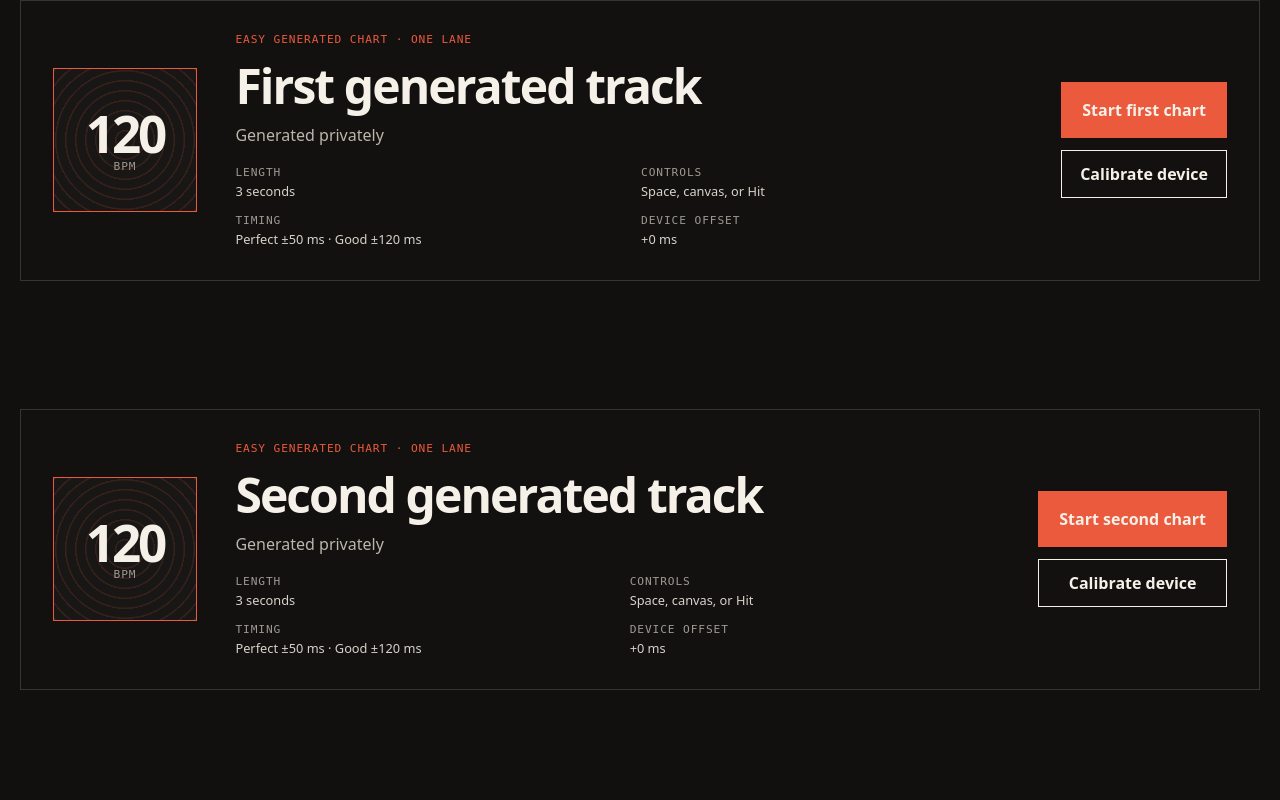
Test: generated rhythm-game experience › stops the previous game so only the active owner consumes Space
Click the button "Start first chart" at (1144, 110), box [1061,82,1227,138]
(page scrolled)
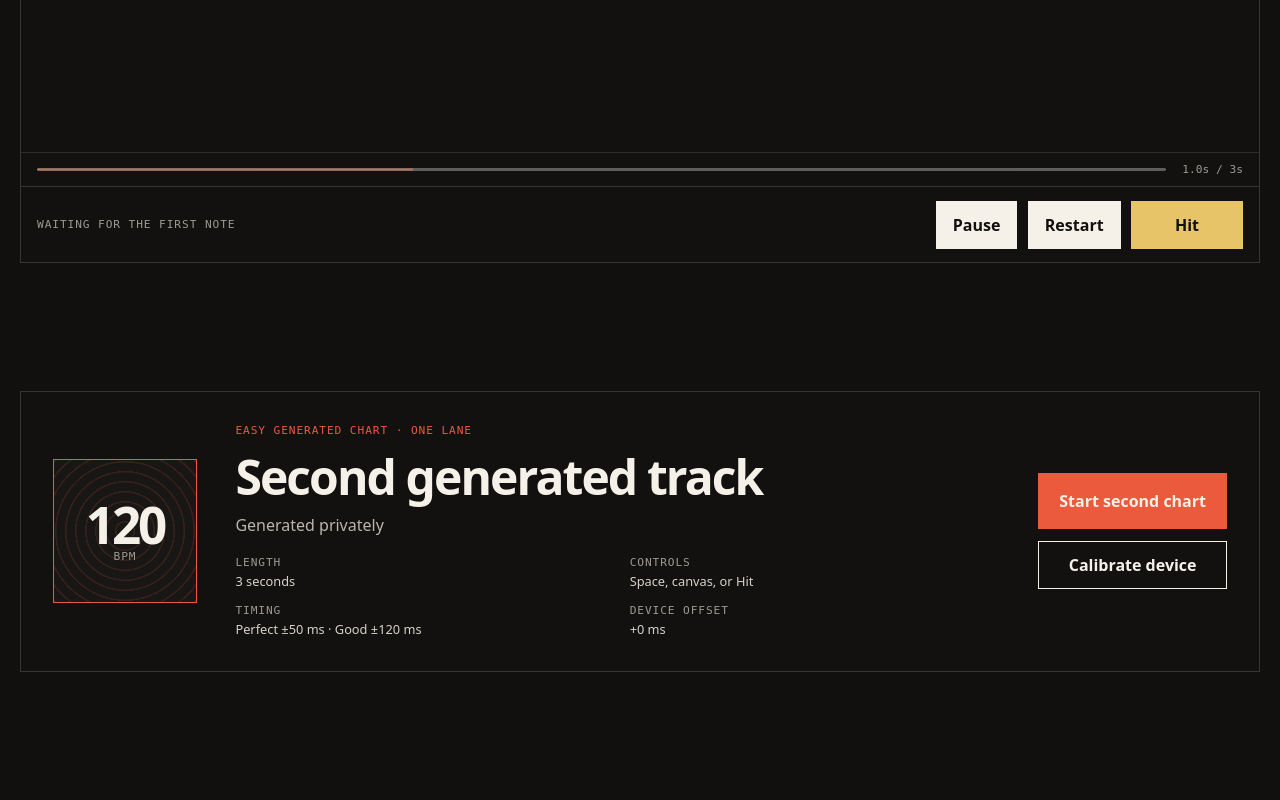
Expected: the button "Pause" is enabled, [936,200,1017,248]
Click the button "Start second chart" at (1133, 501), box [1038,473,1227,529]
(page scrolled)
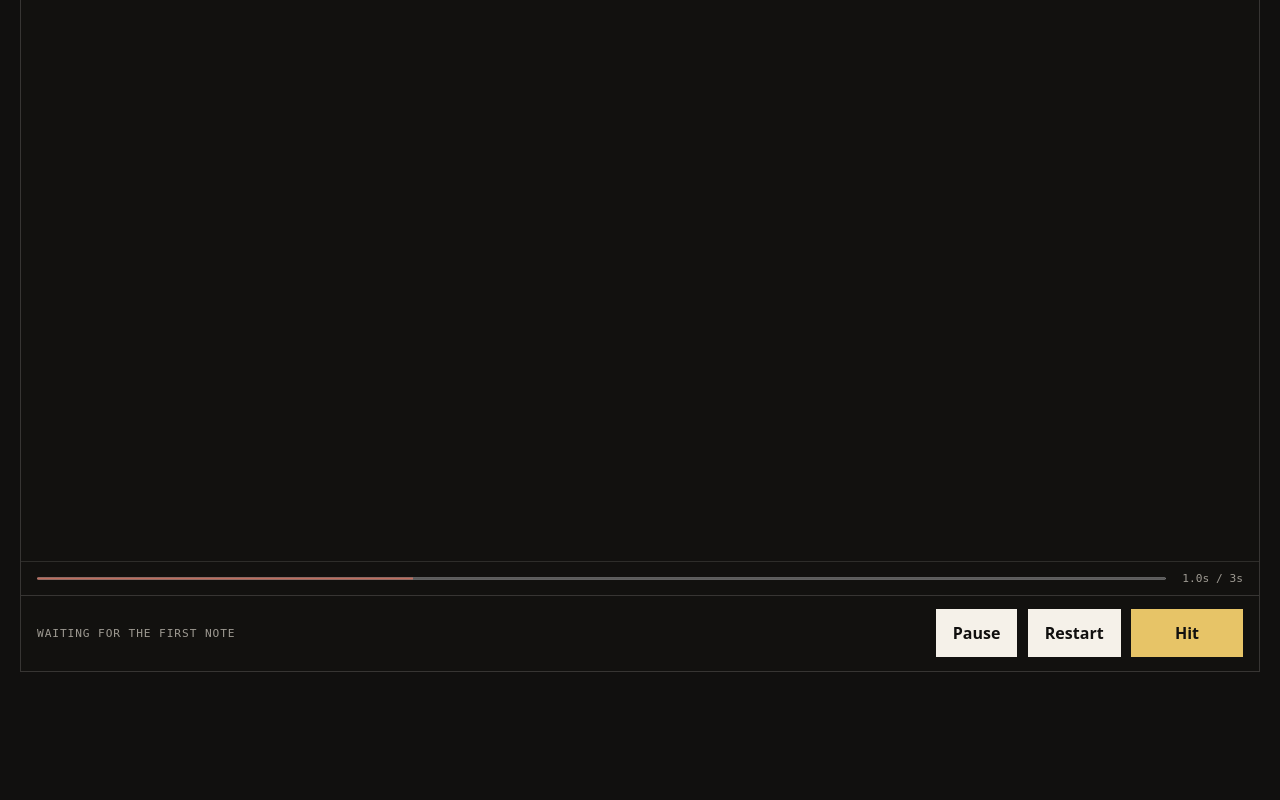
Expected: the button "Pause" is enabled, [936,610,1017,658]
Press Space
(page scrolled)
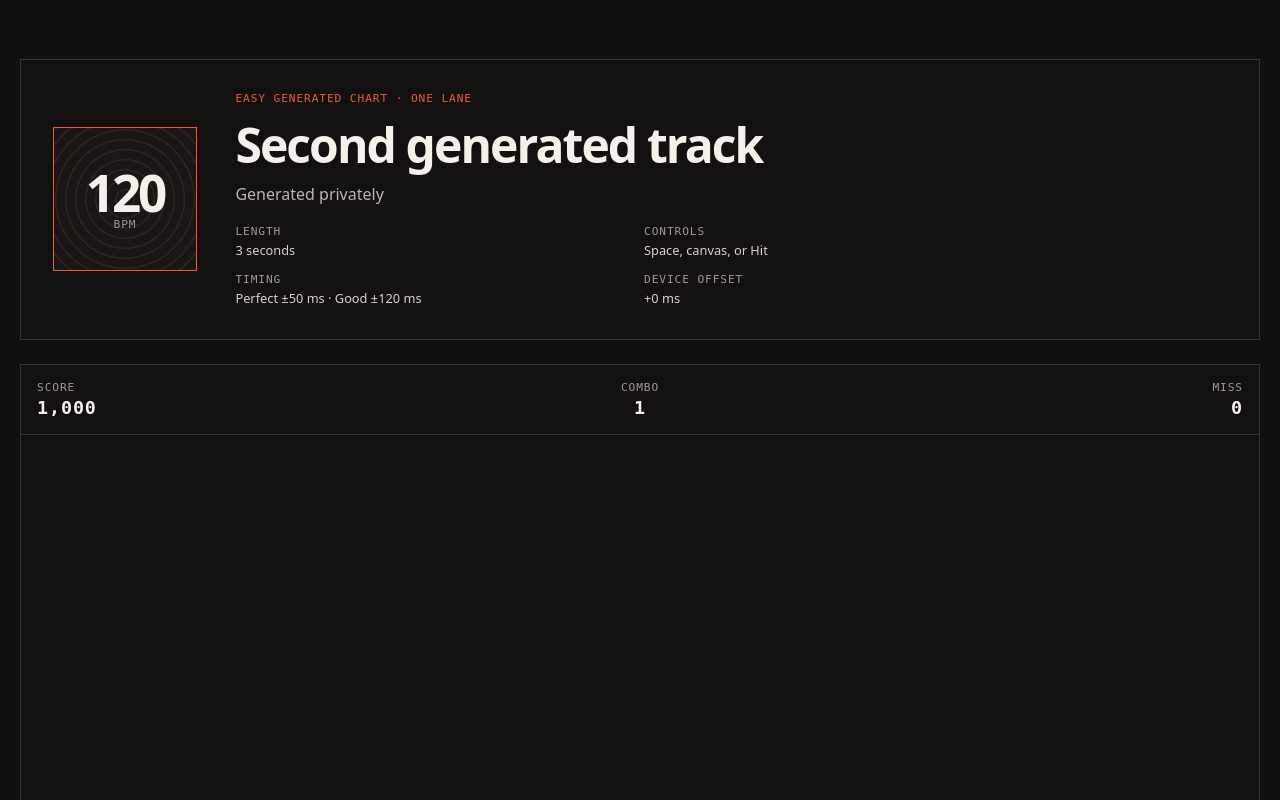
Expected: the element with test id "scoreboard" shows "Score 1,000", [21,365,1259,435]
